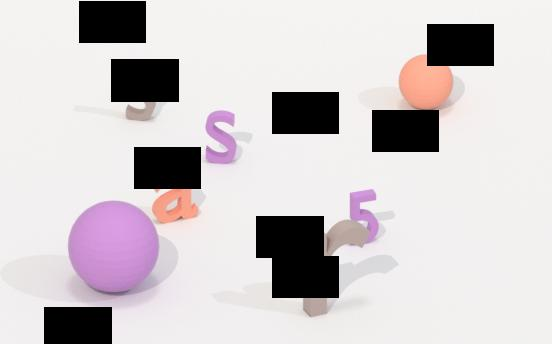3: (120, 64, 162, 124)
5: (344, 189, 387, 243)
R: (296, 221, 389, 321)
a: (149, 168, 202, 225)
cau: (60, 199, 169, 292), (396, 52, 459, 115)
s: (201, 109, 242, 166)
